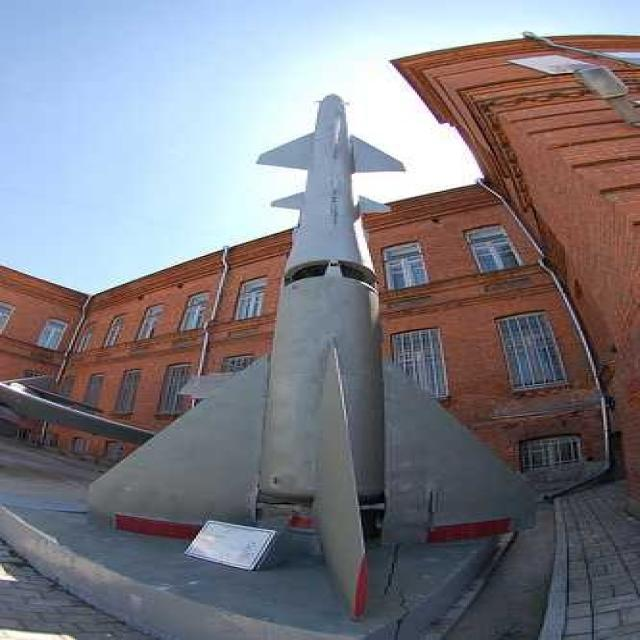missile: (90, 86, 542, 603)
